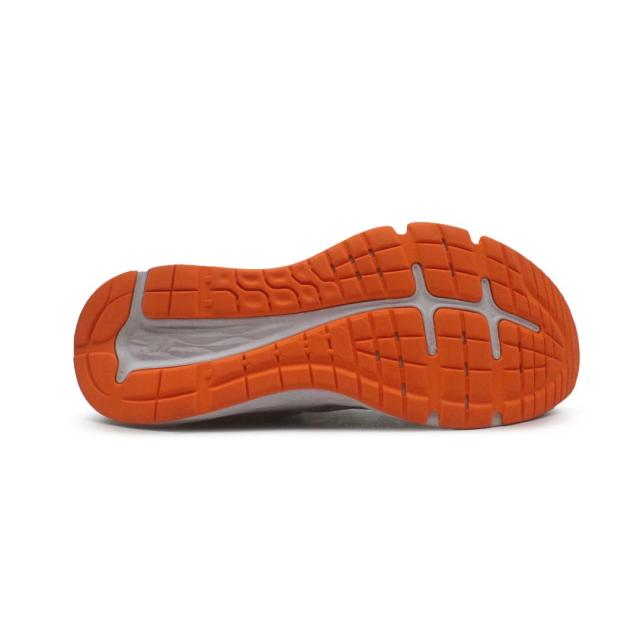outersole: (73, 224, 580, 431)
